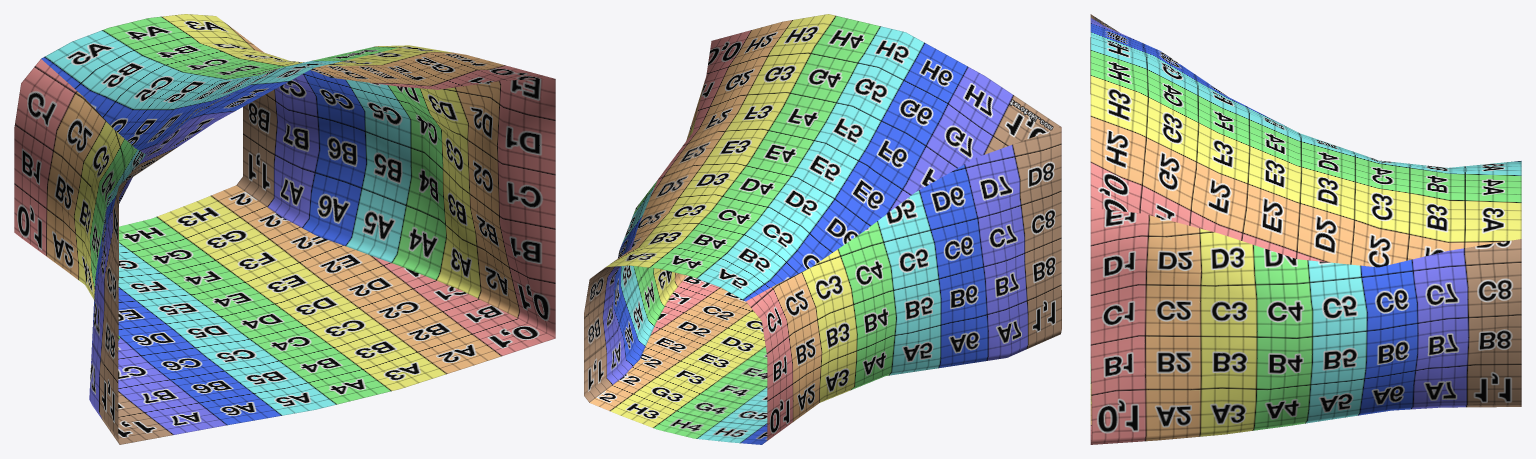
The model's file is grotte_startToStraight.fbx.
3 views of the same model, side by side, from view 1: azimuth 30°, elevation 25°; view 2: azimuth 150°, elevation 25°; view 3: azimuth 270°, elevation 25° (orthographic). The views are drawn at different scales.
Visible parts, largest first — view 1: grotte_startToStraight; view 2: grotte_startToStraight; view 3: grotte_startToStraight.
Boxes of the visible parts, x1=… form: grotte_startToStraight: x1=14, y1=14, x2=555, y2=444; grotte_startToStraight: x1=584, y1=14, x2=1061, y2=444; grotte_startToStraight: x1=1090, y1=14, x2=1521, y2=444.
Size of the model in its own units: 862 by 644 by 804.
Materials: 1 (1 with a texture image).
